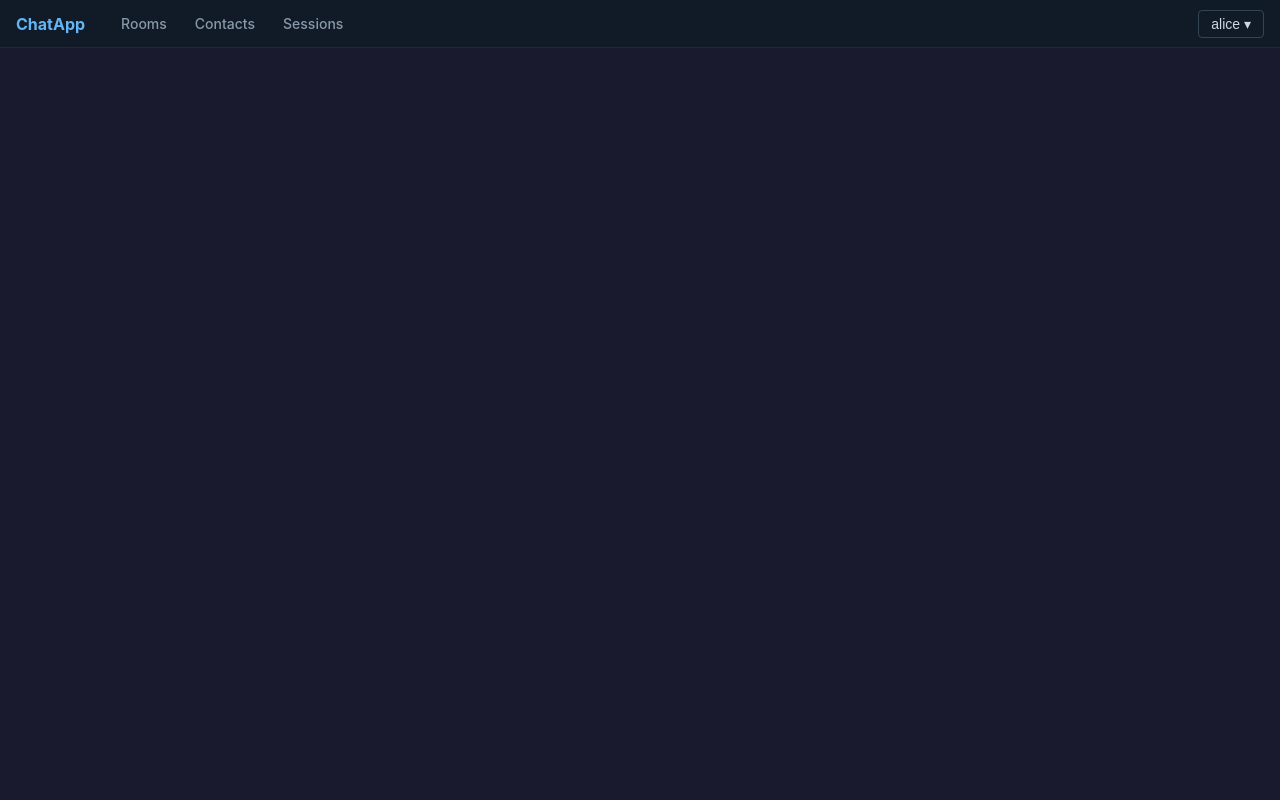
Scenario: NavBar › opens ChangePasswordModal from dropdown
Click the button with aria-label "profile menu".
click(1231, 24)  # box [1198,10,1264,38]
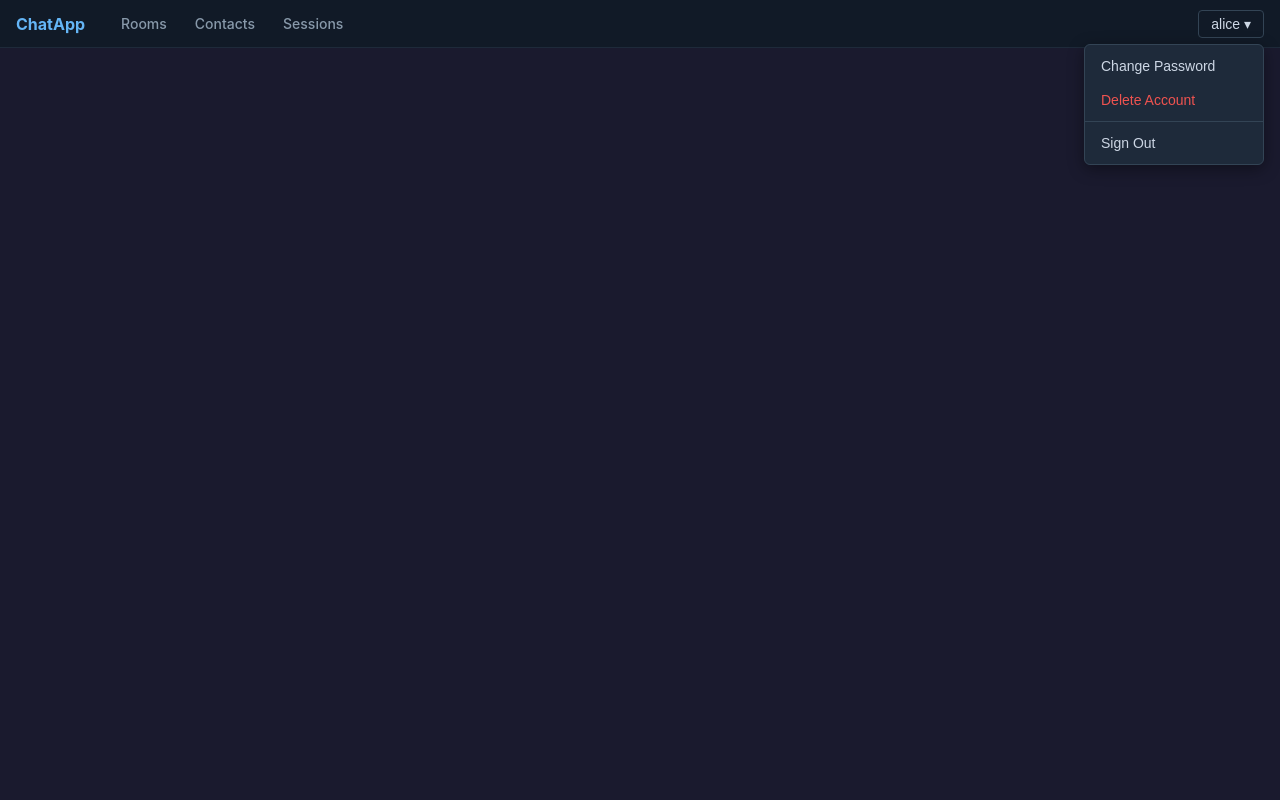
Click the menu item "Change Password".
click(1174, 66)  # box [1085,48,1263,82]
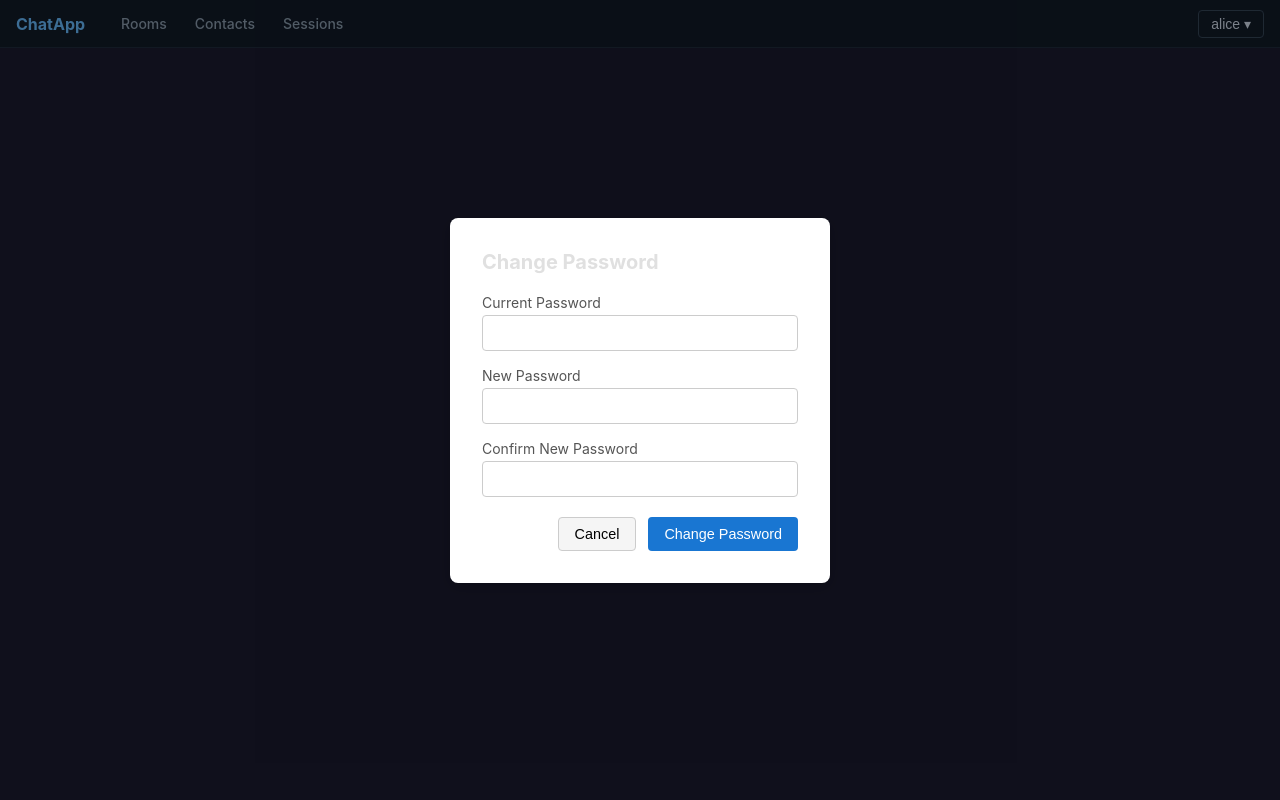
expect the dialog "Change Password" is shown: met
expect the menu is gone: met
